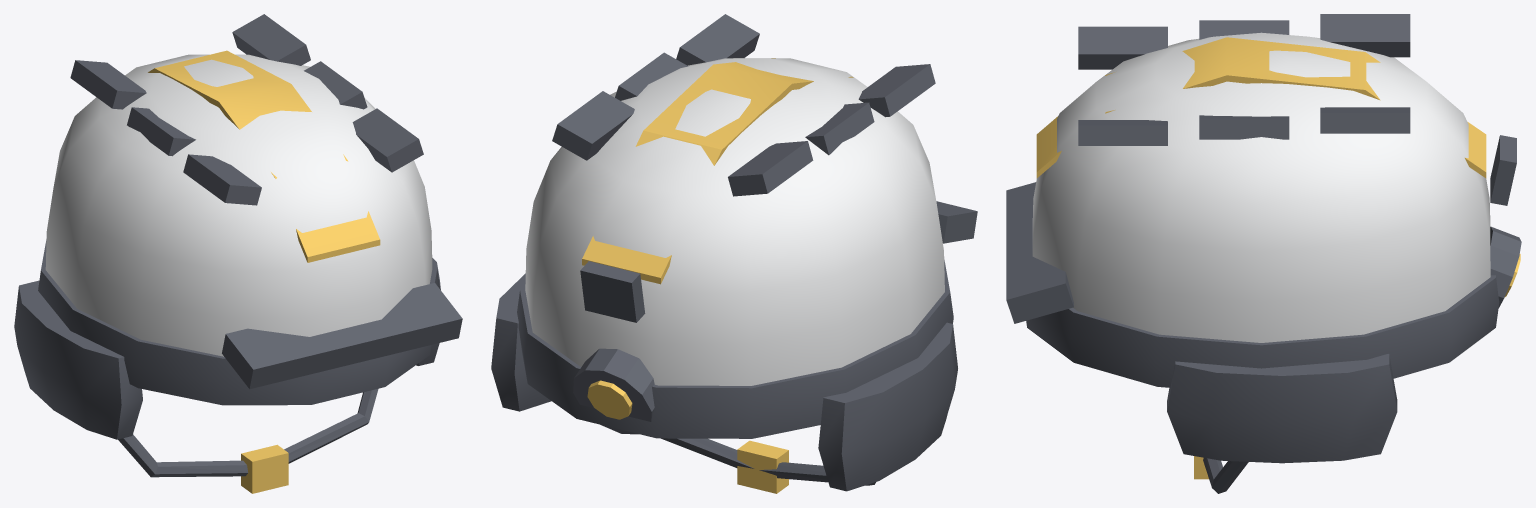
The model's file is snowboard-gear-and-freestyle-riders-snowboard-helmet-4209aadd__27152.glb.
The picture shows the model from 3 angles, left to right: view 1: azimuth 30°, elevation 25°; view 2: azimuth 150°, elevation 25°; view 3: azimuth 270°, elevation 25°; orthographic projection. The views are drawn at different scales.
Visible parts, largest first — view 1: snowboard-helmet; view 2: snowboard-helmet; view 3: snowboard-helmet.
Boxes of the visible parts, <box> form: snowboard-helmet: <box>14,14,462,493</box>; snowboard-helmet: <box>491,14,977,493</box>; snowboard-helmet: <box>1006,14,1521,493</box>.
Size of the model in its own units: 0.266 by 0.2639 by 0.298.
